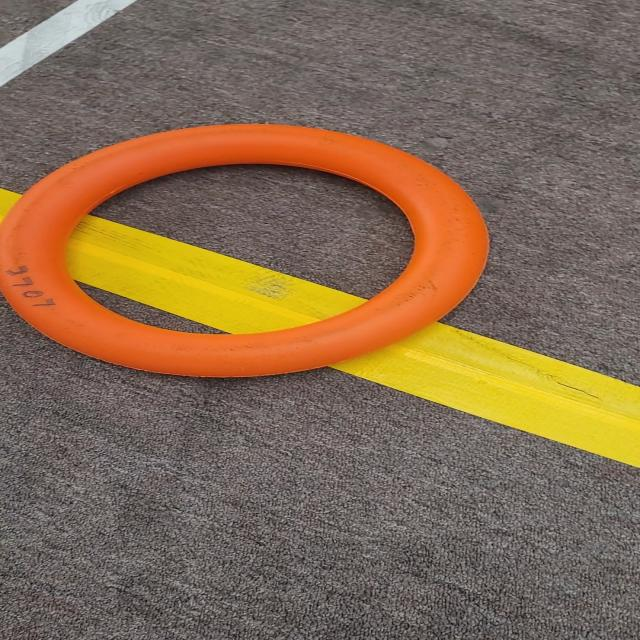note: (0, 115, 501, 391)
